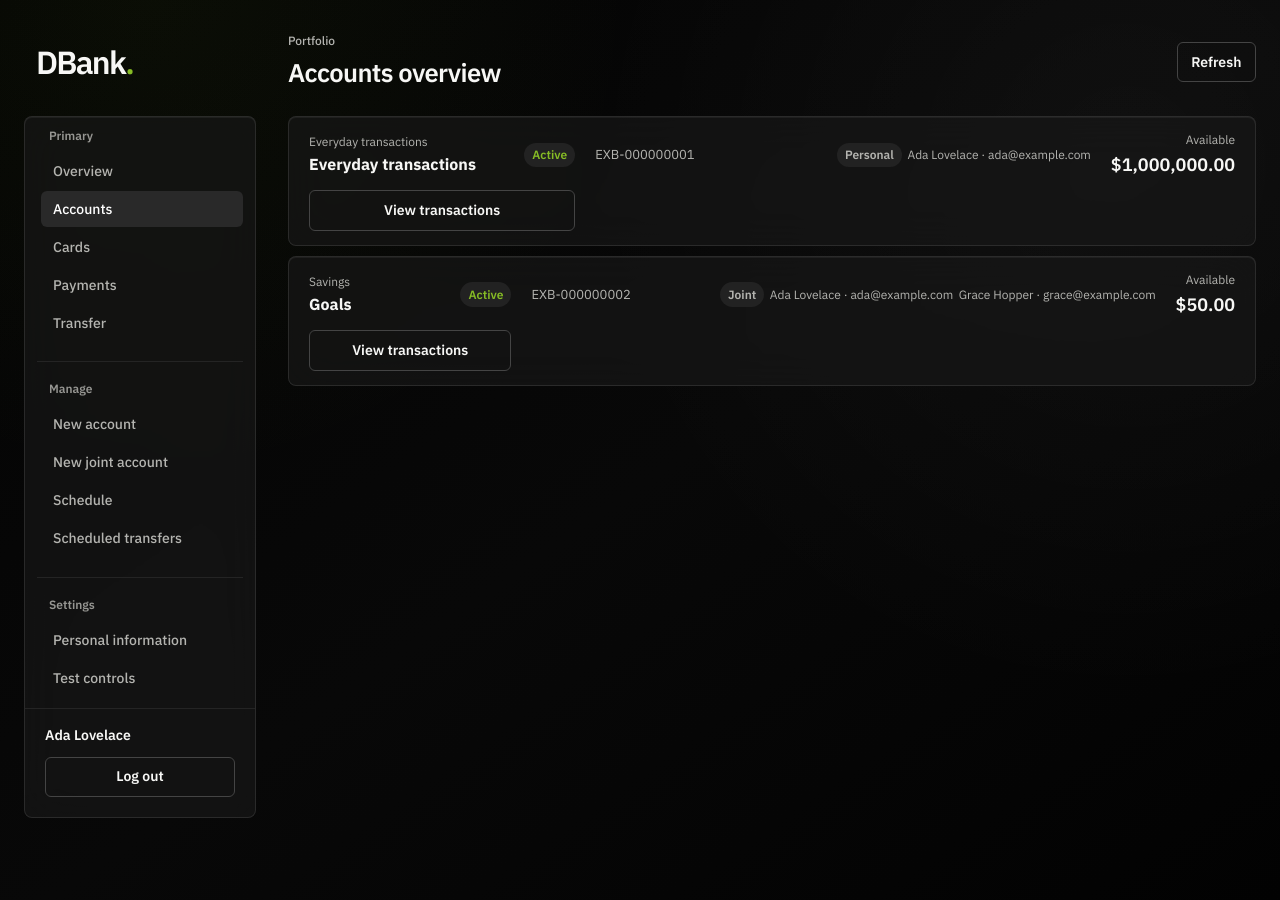
Test case: Dashboard navigation › navigates immediately for API-only delay settings
Expected: the element with test id "account-card-account-1" is shown, [288,116,1256,246]
Click the link with test id "dashboard-nav-new-account".
click(95, 424)  # box [53,415,136,433]
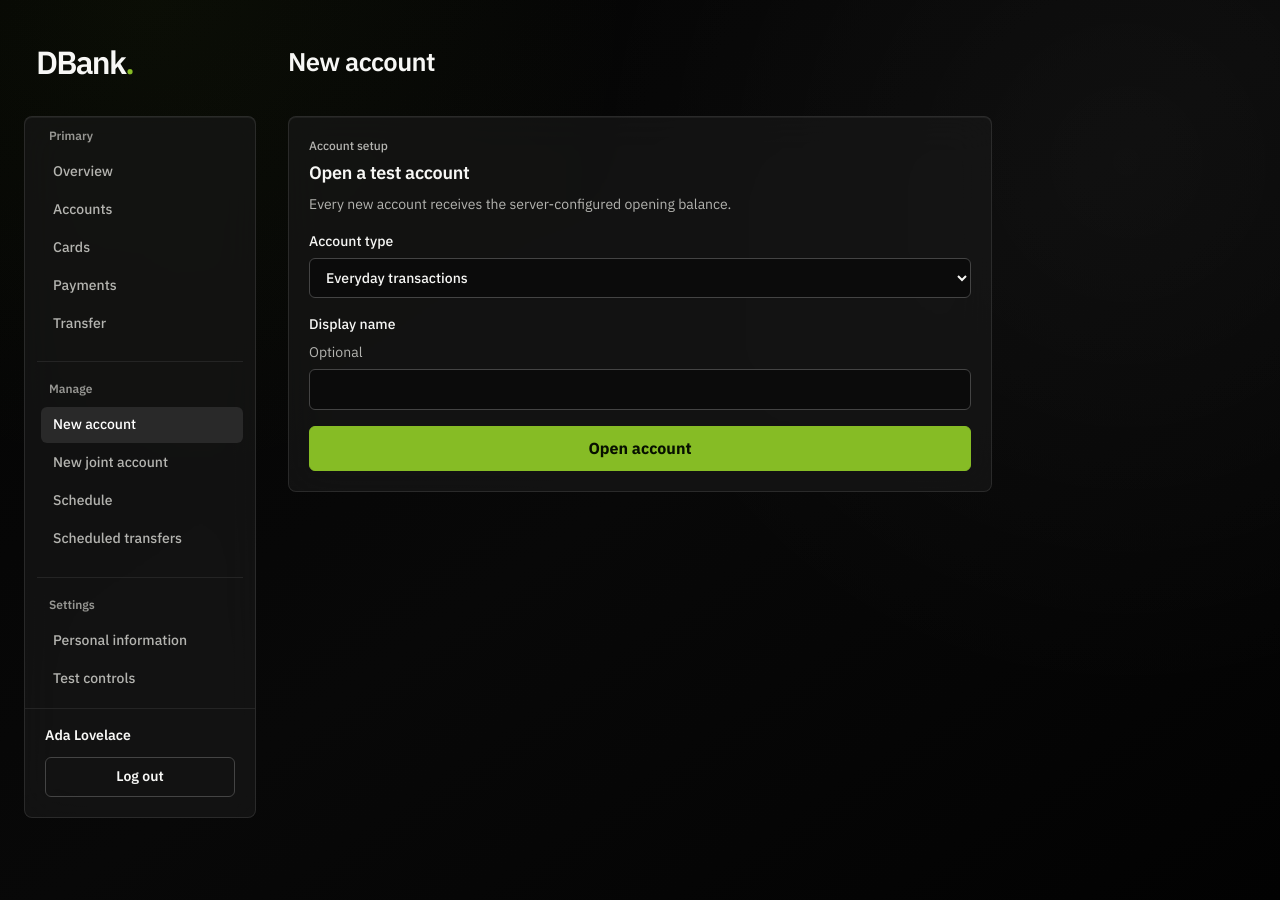
Expected: the element with test id "dashboard-view-new-account" is shown, [288,45,992,492]
